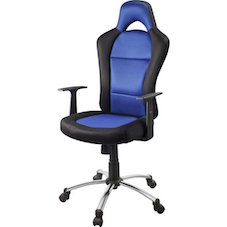chair: (47, 0, 189, 225)
